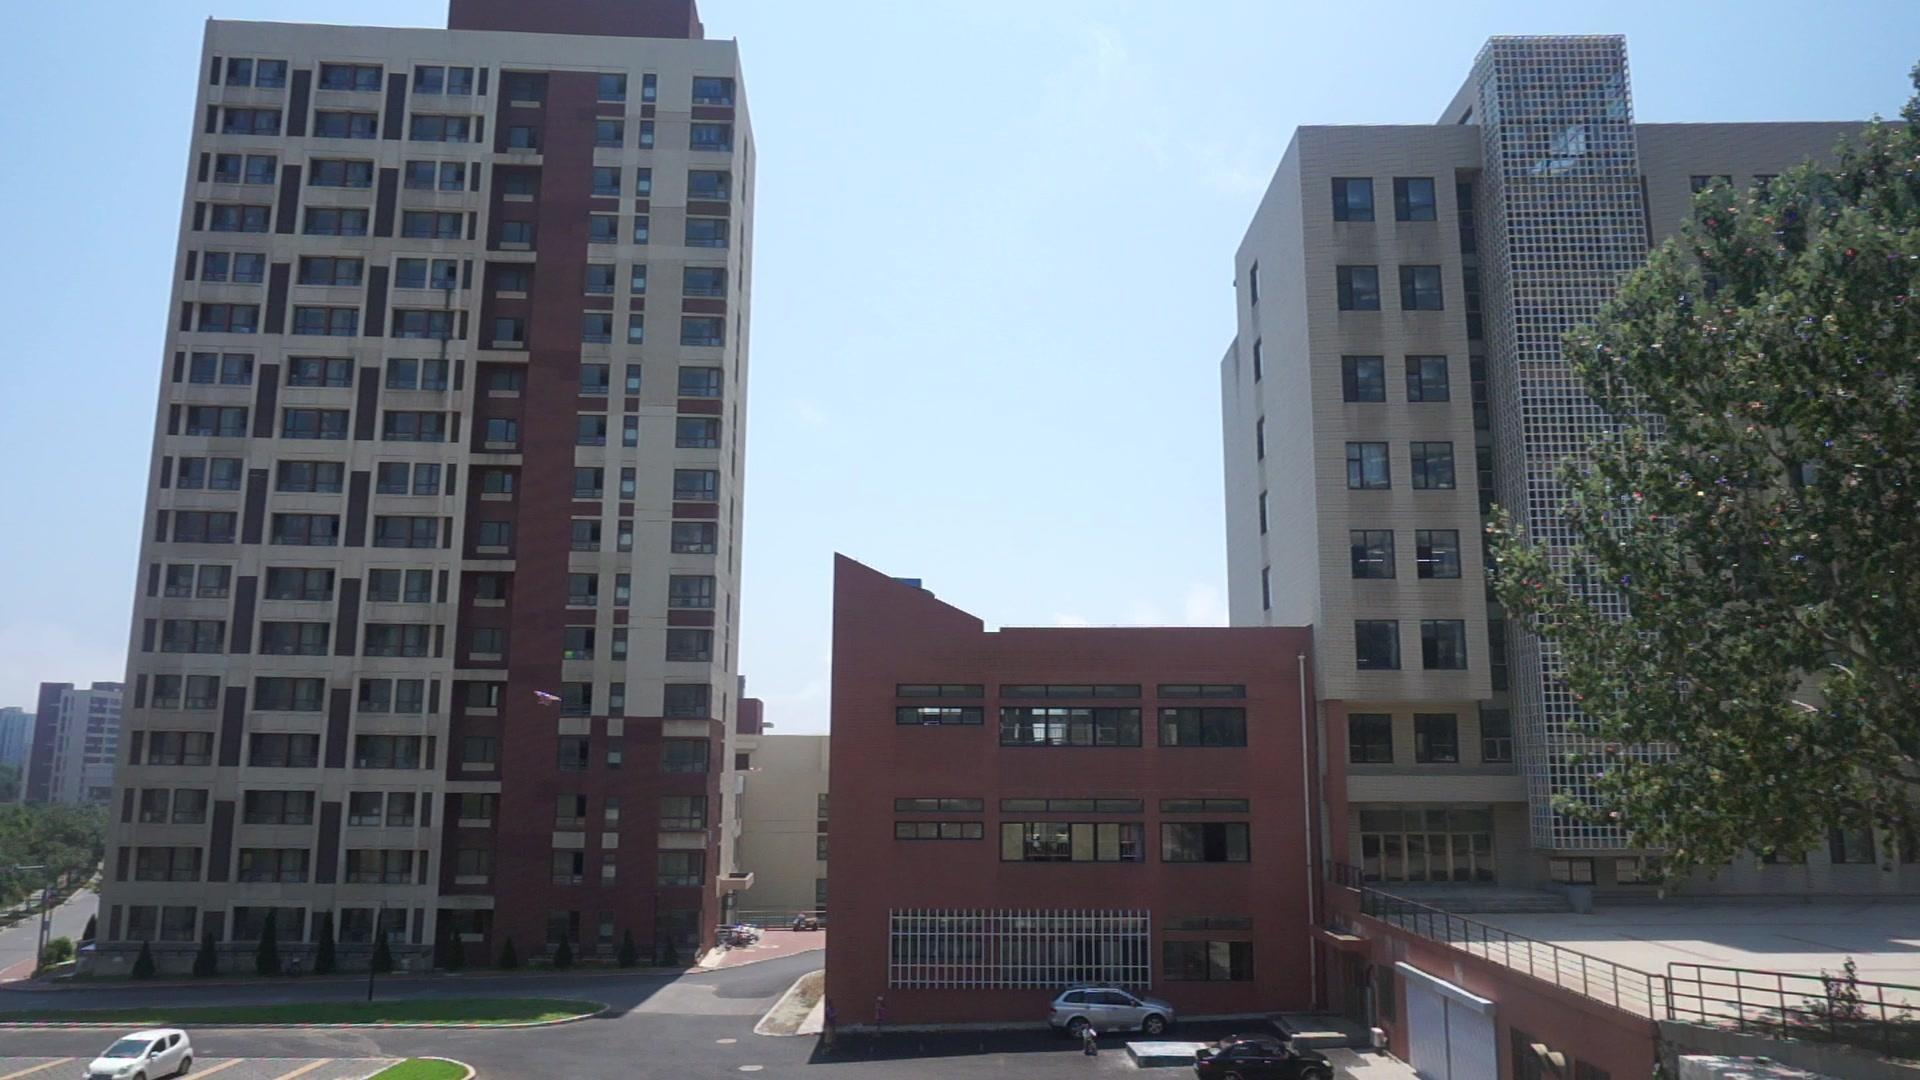UAV: (535, 690, 563, 707)
